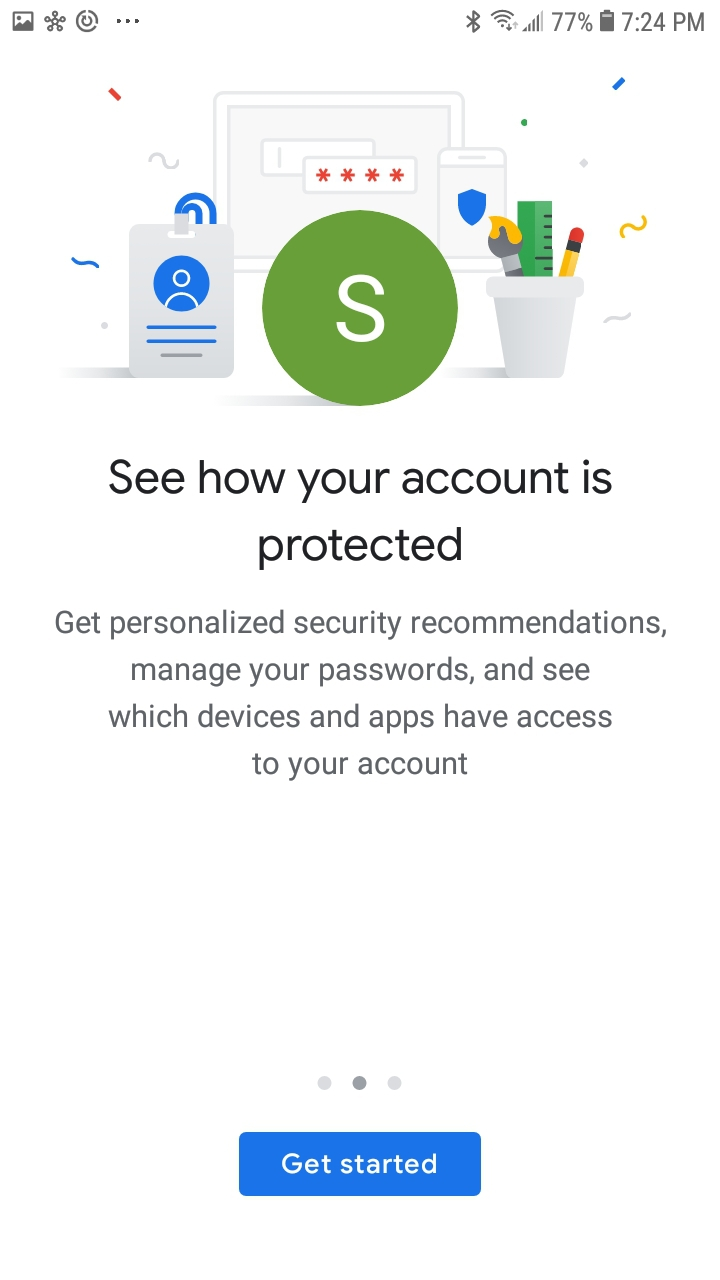Image: (71, 77, 648, 407)
PageIndicator: (317, 1075, 403, 1091)
Text: (56, 609, 667, 782), (109, 458, 613, 571)
TextButton: (239, 1132, 482, 1197)
UpperTaskBar: (1, 1, 720, 34)
